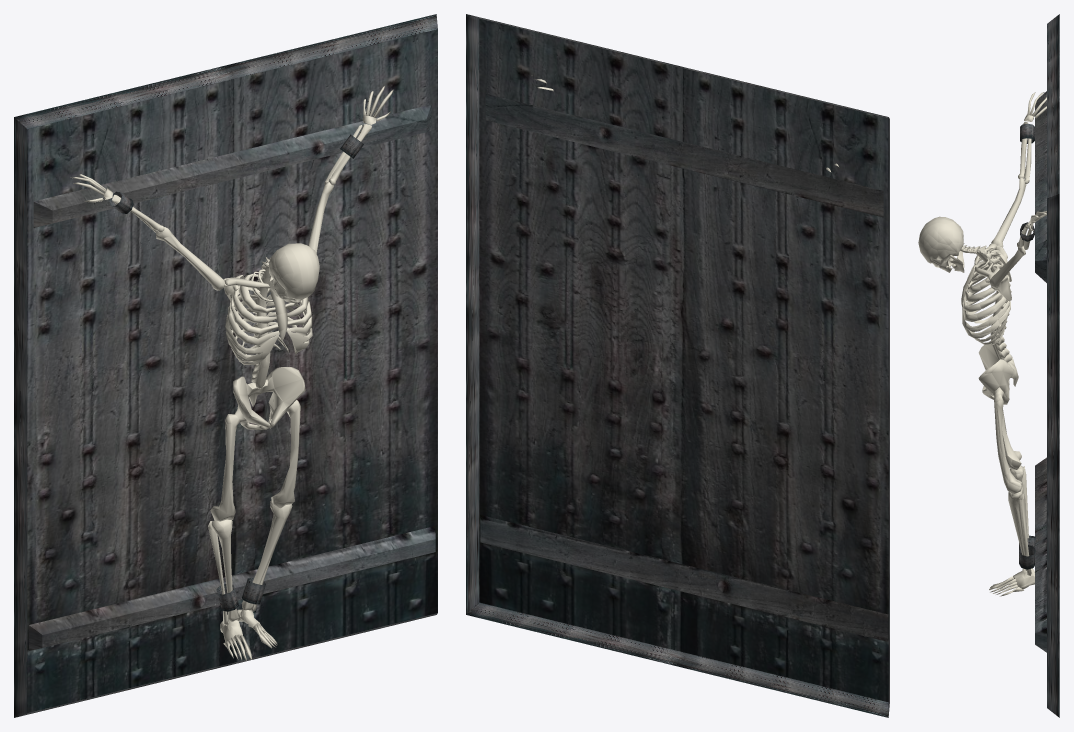
File: hall_skeleton_plaque.gltf
3 views of the same model, side by side, from view 1: azimuth 30°, elevation 25°; view 2: azimuth 150°, elevation 25°; view 3: azimuth 270°, elevation 25° (orthographic). The views are drawn at different scales.
Visible parts, largest first — view 1: hall_skeleton_plaque; view 2: hall_skeleton_plaque; view 3: hall_skeleton_plaque.
Boxes of the visible parts, bbox=[...] form: hall_skeleton_plaque: bbox=[14, 14, 437, 717]; hall_skeleton_plaque: bbox=[466, 14, 889, 717]; hall_skeleton_plaque: bbox=[918, 14, 1059, 717].
Size of the model in its own units: 12.73 by 17.3 by 4.22.
Materials: 2 (1 with a texture image).
